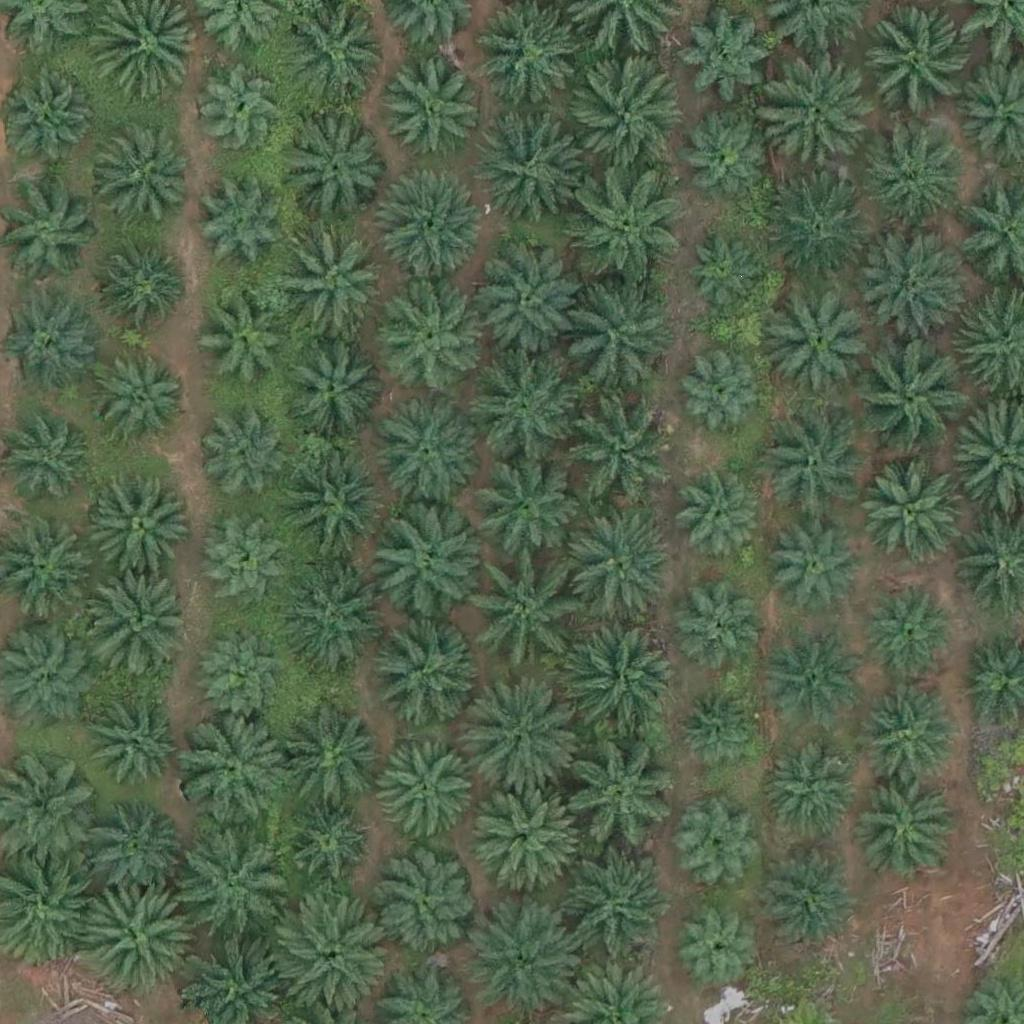Kelapa_Sawit: (469, 685, 582, 799), (475, 108, 588, 222), (567, 507, 680, 620), (563, 626, 676, 739), (556, 742, 669, 855), (363, 511, 476, 624), (171, 816, 284, 929), (78, 880, 191, 993), (860, 4, 973, 117), (574, 63, 687, 176), (468, 244, 581, 357), (374, 170, 487, 283), (280, 232, 393, 345), (555, 857, 667, 971), (174, 714, 286, 828), (864, 456, 976, 570), (569, 168, 681, 282), (278, 446, 390, 560), (469, 907, 581, 1020), (469, 780, 581, 893), (476, 555, 588, 668), (361, 616, 473, 729), (279, 564, 391, 677), (276, 704, 388, 817), (276, 892, 388, 1005), (87, 567, 199, 680), (855, 335, 967, 448), (851, 226, 963, 339), (765, 65, 877, 178), (764, 167, 876, 280), (765, 286, 877, 399), (754, 407, 866, 520), (560, 278, 672, 391), (565, 388, 677, 501), (467, 443, 579, 556), (466, 352, 578, 465), (373, 399, 485, 512), (82, 468, 194, 581), (859, 688, 959, 789), (855, 780, 955, 881), (760, 736, 860, 837), (761, 845, 861, 946), (375, 742, 475, 843), (375, 854, 475, 955), (85, 799, 185, 900), (89, 686, 189, 787), (866, 131, 966, 232), (677, 8, 777, 109), (385, 57, 485, 158), (381, 294, 481, 395), (277, 338, 377, 439), (288, 121, 388, 222), (87, 346, 187, 447), (767, 510, 867, 610), (762, 639, 862, 739), (88, 124, 188, 224), (865, 584, 953, 672), (673, 902, 761, 990), (677, 794, 765, 882), (280, 800, 368, 888), (197, 630, 285, 718), (200, 295, 288, 383), (205, 415, 293, 503), (93, 240, 181, 328), (675, 686, 762, 774), (675, 581, 762, 669), (678, 469, 765, 557), (678, 345, 765, 433), (689, 112, 776, 200), (197, 66, 284, 154), (198, 185, 285, 273), (200, 520, 287, 608), (687, 235, 762, 311)
